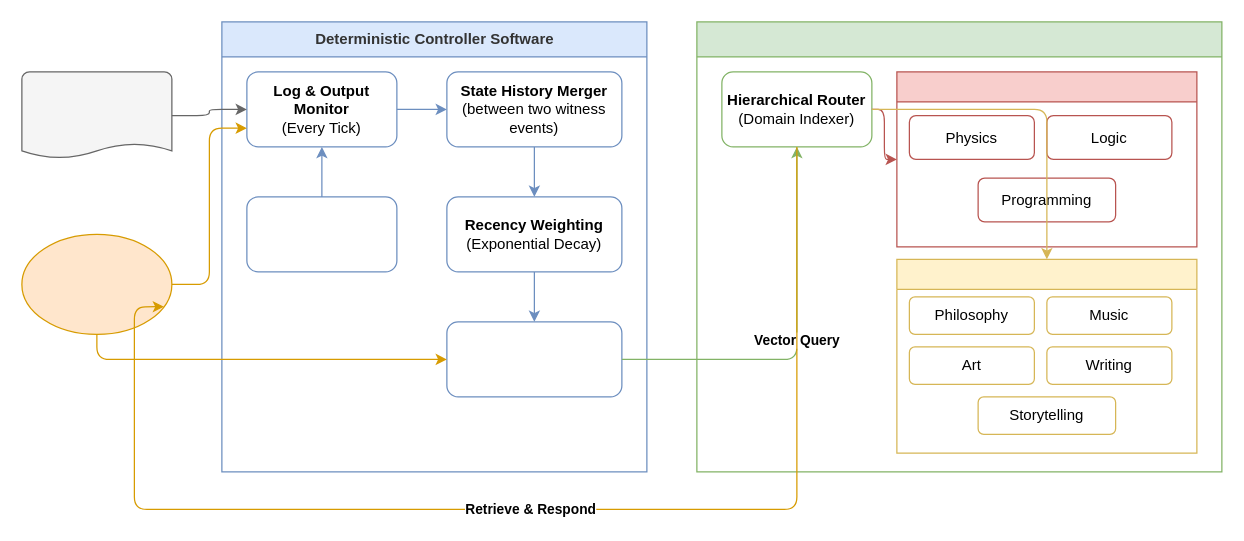
Some shapes in this 1244 by 541 pixel diagram are drawn without their labels. The box of each missing label's shape, as (x1, y1, x2, y2) in pixels:
Embedding Generator (Output + History): (446, 321, 622, 397)
Hierarchical Vector Store (Informative, engaing, conversational, Q&A): (696, 21, 1222, 472)
Humanities & Arts: (896, 258, 1197, 453)
Log Files (System Logs): (21, 71, 172, 159)
STEM Domains (example subjects): (896, 71, 1197, 247)
Tick Generator (System Clock): (246, 196, 397, 272)
VDM: (21, 233, 172, 334)
